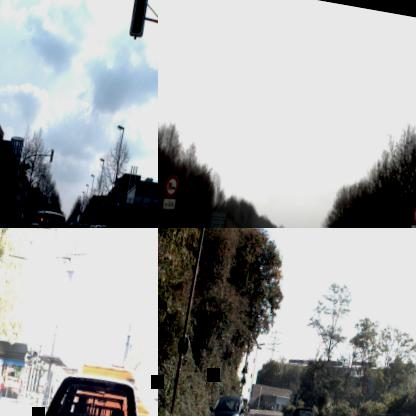no overtaking: (163, 173, 180, 199), (410, 201, 416, 226)
speed limit 50: (361, 382, 368, 394)
